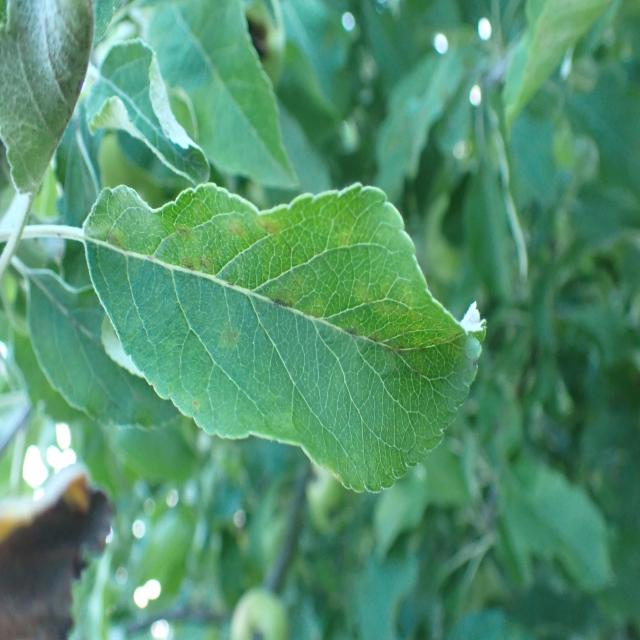scab: (90, 170, 469, 437)
